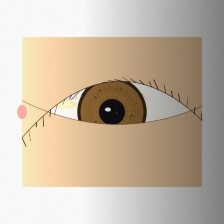pinguecula_lesion: (40, 85, 89, 124)
